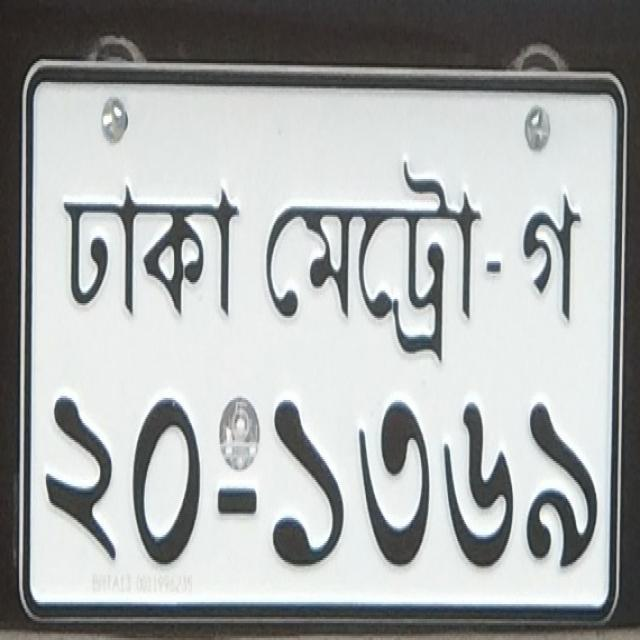numberplate: (13, 53, 631, 627)
